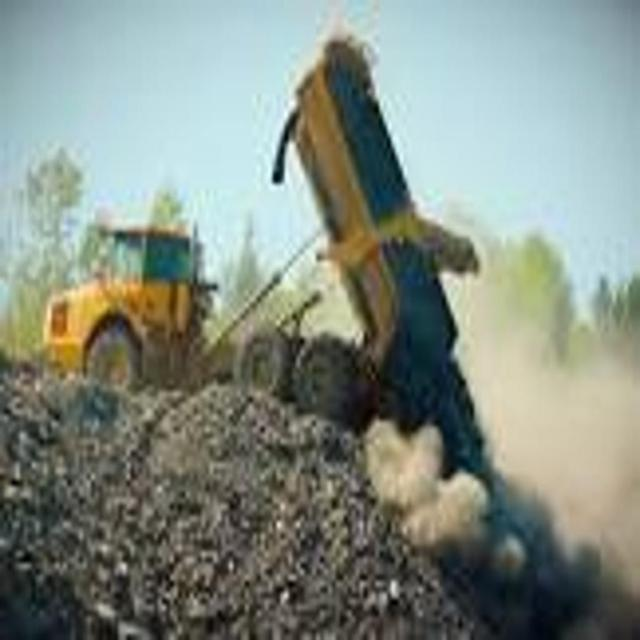dump_truck: (38, 56, 490, 476)
